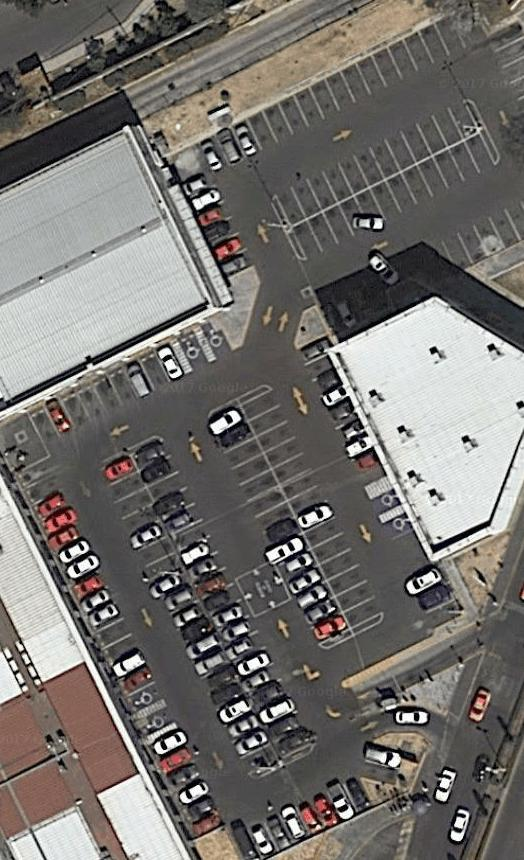parkingspot: (130, 438, 317, 760), (97, 455, 281, 776), (197, 14, 467, 177), (204, 405, 351, 647), (240, 388, 386, 629), (14, 455, 158, 699), (27, 316, 234, 448), (291, 132, 497, 261), (275, 98, 479, 227), (228, 775, 373, 860), (304, 354, 384, 479), (146, 727, 229, 841), (177, 170, 256, 281), (442, 207, 522, 274), (402, 563, 467, 632), (357, 743, 406, 787), (124, 681, 166, 716), (136, 705, 177, 738), (295, 334, 335, 367), (486, 21, 524, 54), (368, 487, 404, 518), (380, 511, 414, 543)
